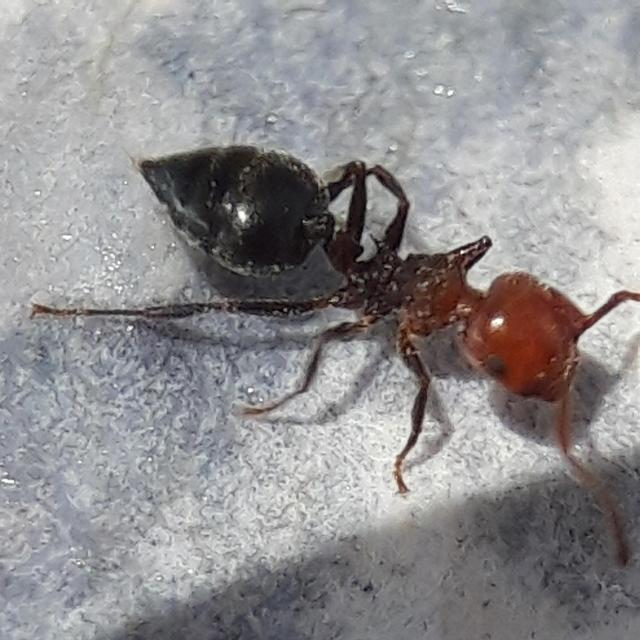Crematogaster: (105, 92, 580, 468)
